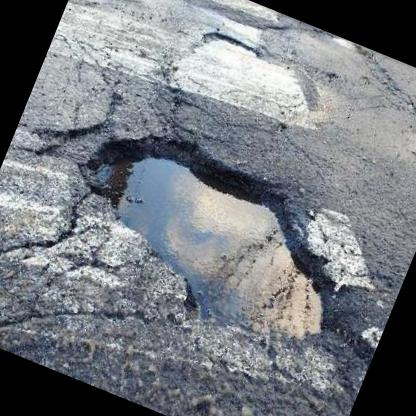pothole: (44, 104, 375, 368), (198, 21, 265, 63)
